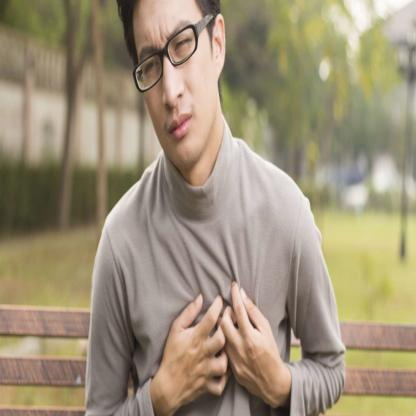pain: (133, 15, 202, 96)
